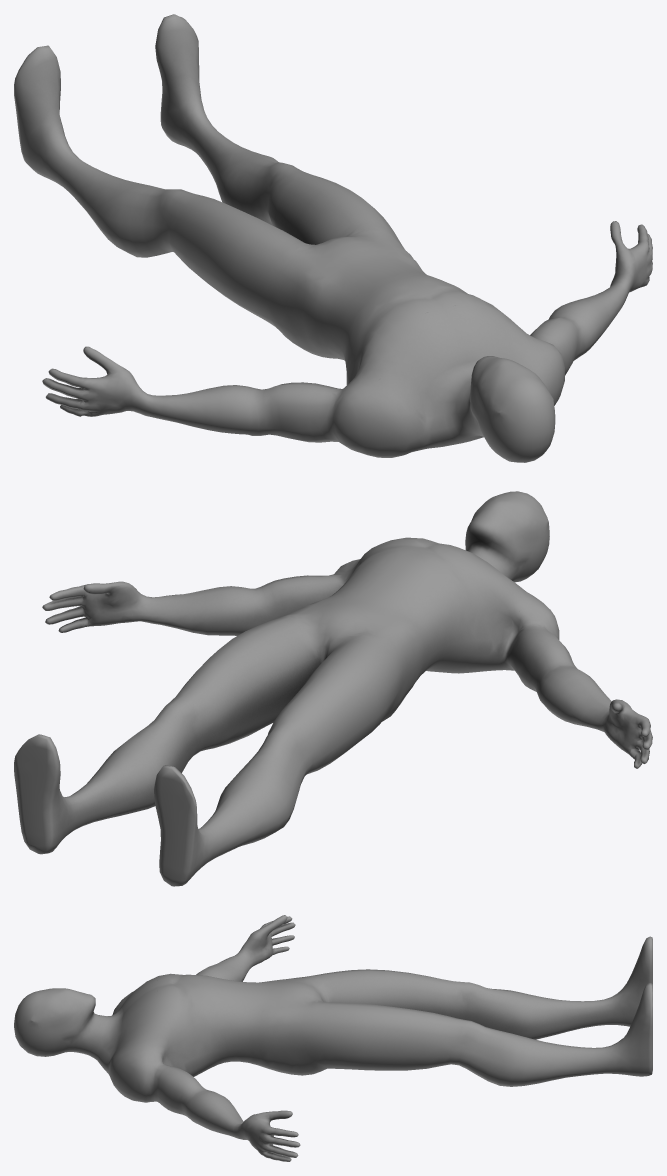
Rendered from human.glb.
3 views of the same model, one above another, from view 1: azimuth 30°, elevation 25°; view 2: azimuth 150°, elevation 25°; view 3: azimuth 270°, elevation 25° (orthographic). The views are drawn at different scales.
Visible parts, largest first — view 1: BaseSpiderMan; view 2: BaseSpiderMan; view 3: BaseSpiderMan.
Part boxes in pixels (<box>): BaseSpiderMan: <box>14,14,652,462</box>; BaseSpiderMan: <box>14,491,652,886</box>; BaseSpiderMan: <box>14,915,652,1161</box>.
Bounding box in the file's own units: 25.54 × 6.3 × 31.47.
Materials: 1 (1 with a texture image).
